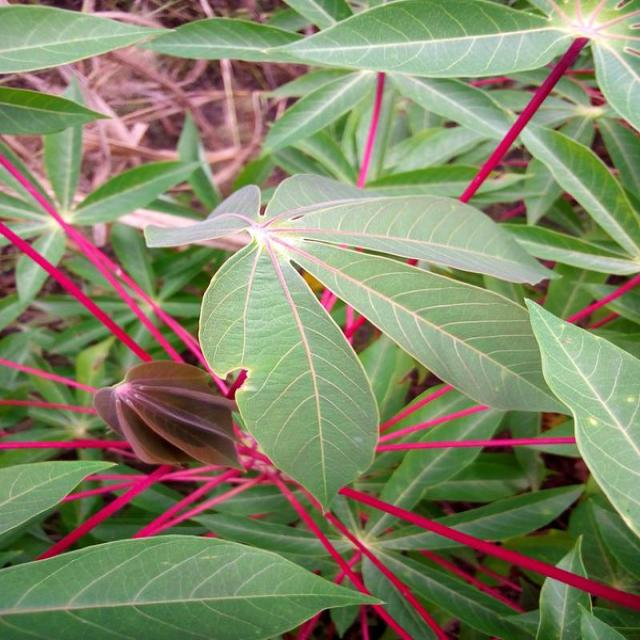cassava leaf: (144, 171, 566, 515), (1, 532, 388, 638), (524, 294, 640, 540)
